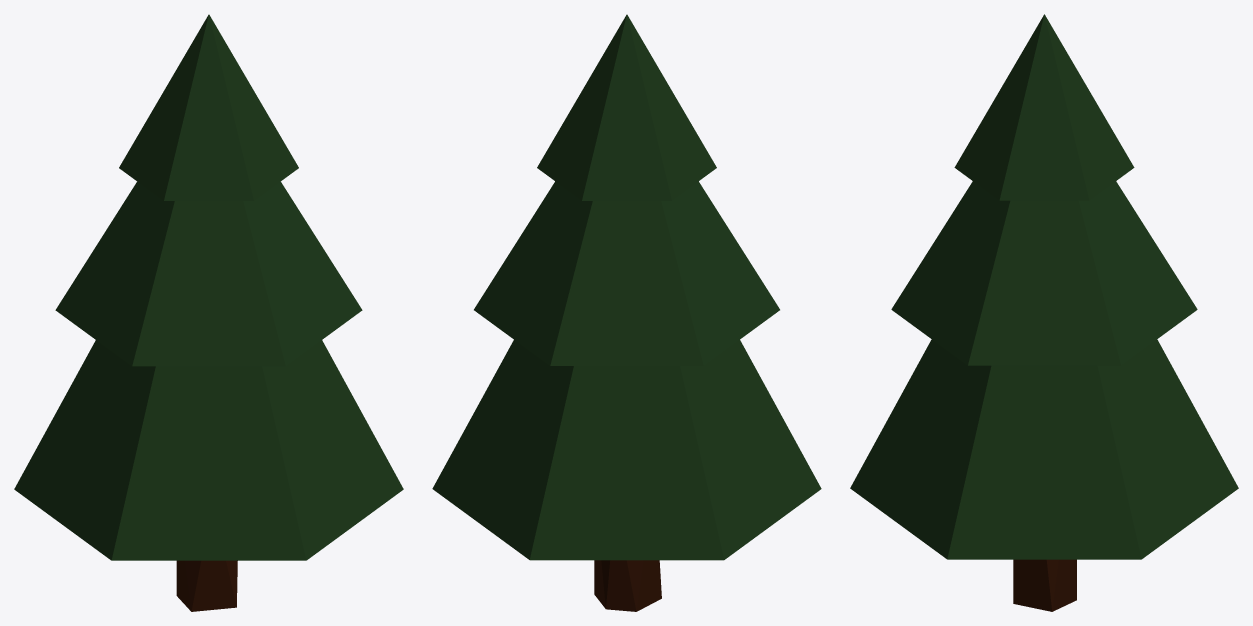
The model's file is big_tree.fbx.
3 renders of one model, left to right at view 1: azimuth 30°, elevation 25°; view 2: azimuth 150°, elevation 25°; view 3: azimuth 270°, elevation 25°, orthographic.
Visible parts, largest first — view 1: Leaf, Trunk; view 2: Leaf, Trunk; view 3: Leaf, Trunk.
Boxes of the visible parts, x1,y1,x2,y2 form: Leaf: (14, 14, 403, 560); Trunk: (176, 560, 237, 611); Leaf: (432, 14, 821, 560); Trunk: (594, 560, 661, 611); Leaf: (850, 14, 1238, 559); Trunk: (1013, 559, 1076, 611).
Bounding box in the file's own units: 1057 × 2022 × 1220.
